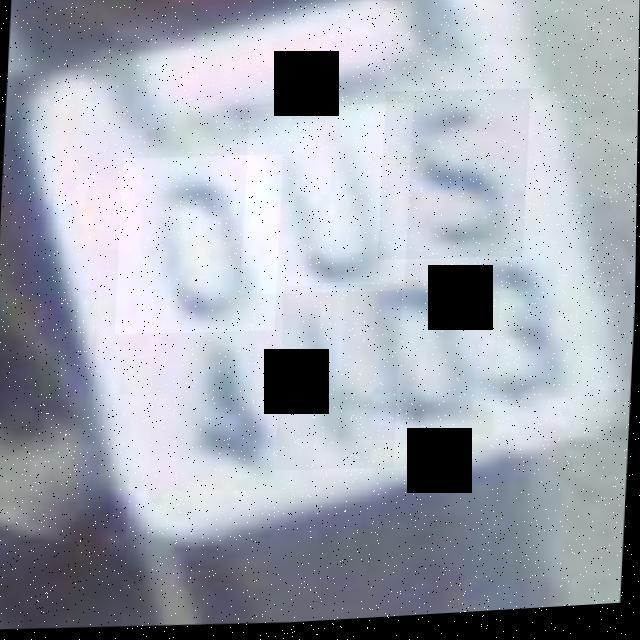0: (341, 249, 502, 450)
1: (276, 284, 404, 478)
3: (431, 237, 594, 424)
4: (148, 311, 321, 501)
O: (115, 152, 283, 341)
S: (378, 89, 531, 269)
U: (240, 102, 414, 303)
